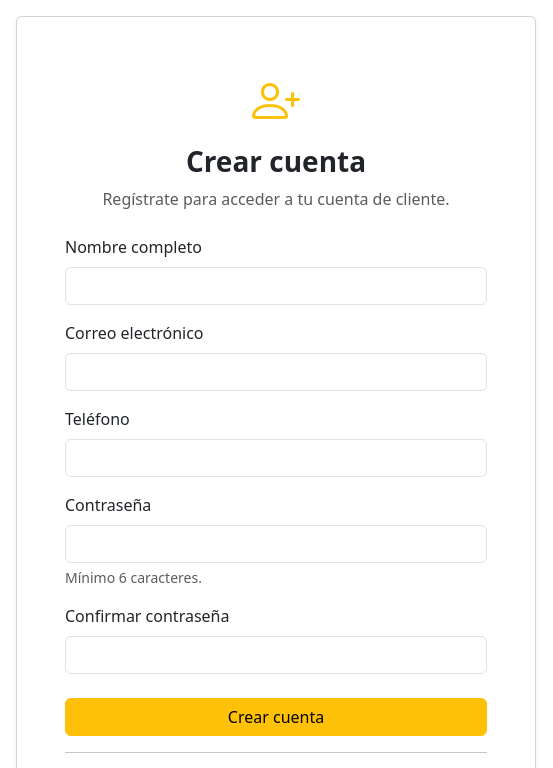
Register › rechaza una contraseña con menos de seis caracteres
This screenshot has width=553, height=768.
Step 1. Type "Cliente de prueba" into the field labelled "Nombre completo" → (276, 286), box x1=65 y1=267 x2=487 y2=305
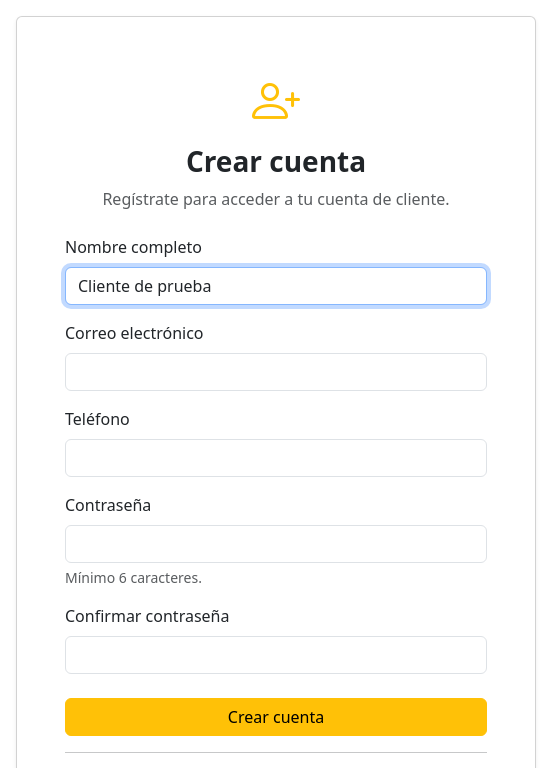
Step 2. Type "cliente@ejemplo.cl" into the field labelled "Correo electrónico" → (276, 372), box x1=65 y1=353 x2=487 y2=391
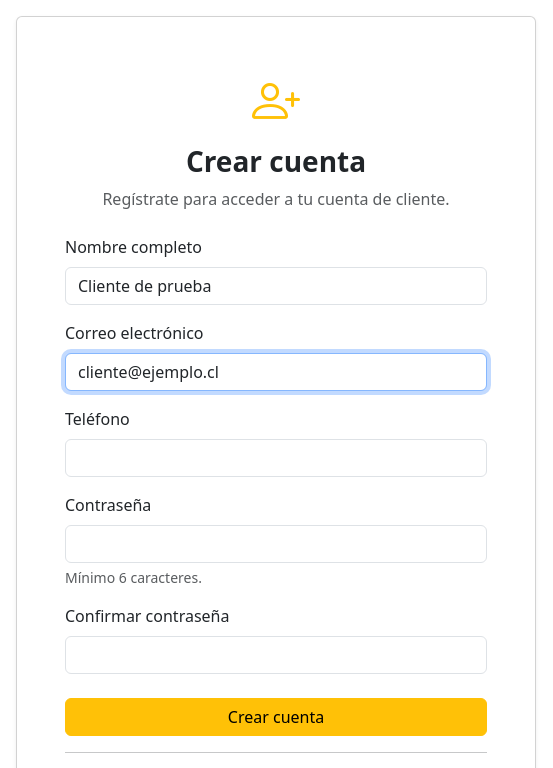
Step 3. Type "912345678" into the field labelled "Teléfono" → (276, 458), box x1=65 y1=439 x2=487 y2=477
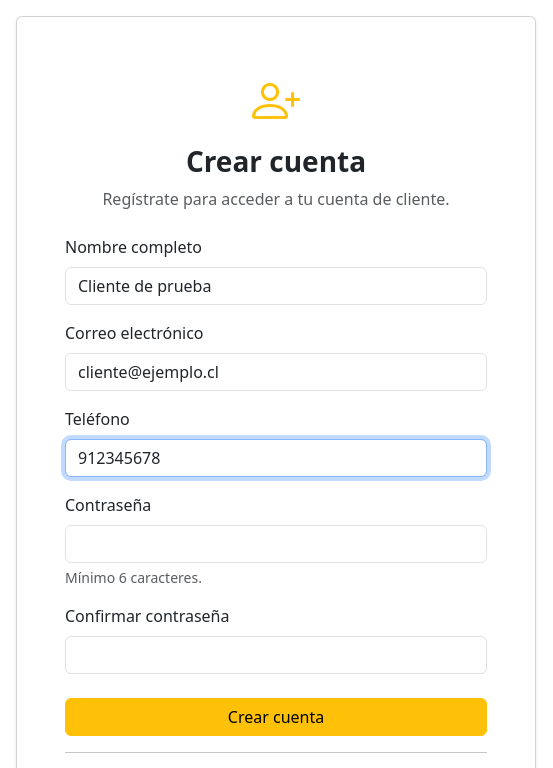
Step 4. Type "abc12" into the password field labelled "Contraseña" → (276, 544), box x1=65 y1=525 x2=487 y2=563
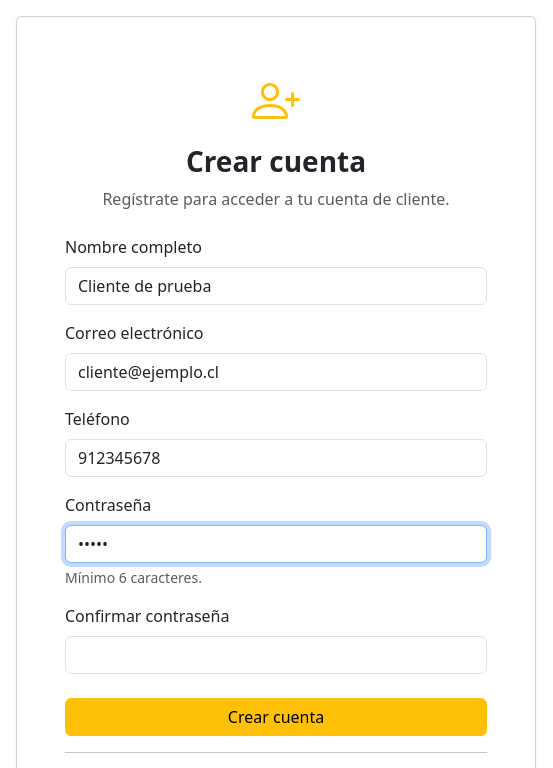
Step 5. Type "abc12" into the password field labelled "Confirmar contraseña" → (276, 655), box x1=65 y1=636 x2=487 y2=674
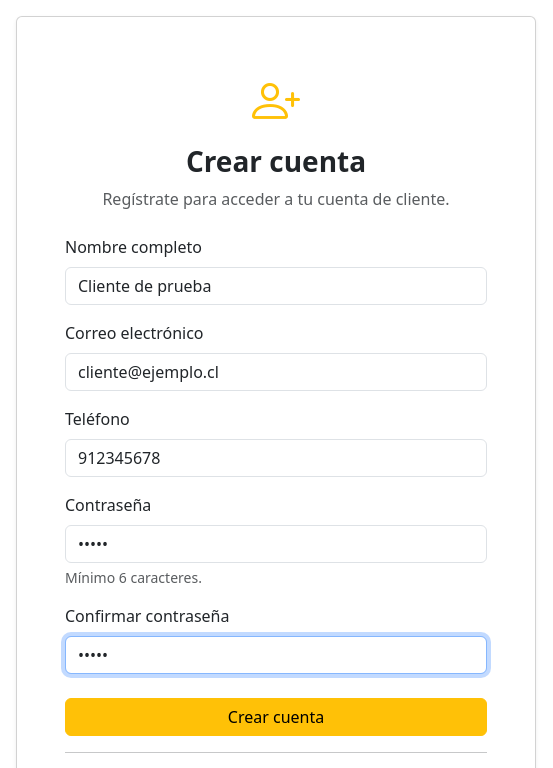
Step 6. Click the button "Crear cuenta" → (276, 717), box x1=65 y1=698 x2=487 y2=736
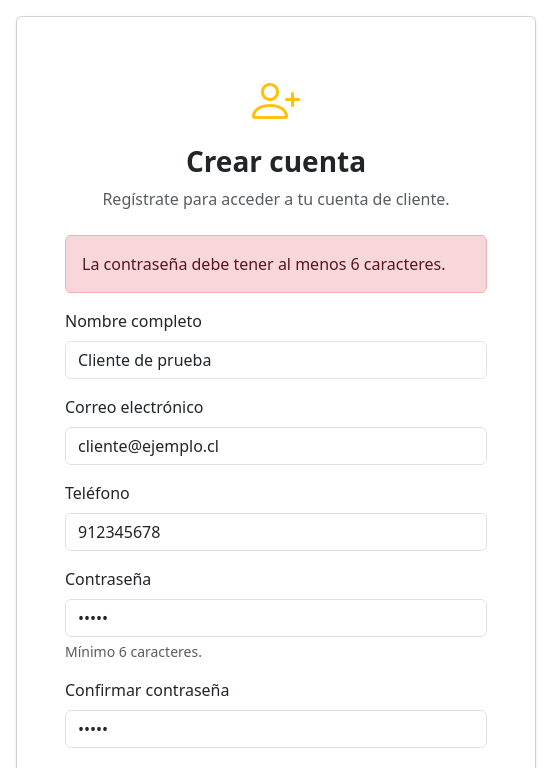
Expected: the message reads "La contraseña debe tener al menos 6 caracteres.", x1=82 y1=253 x2=446 y2=275
